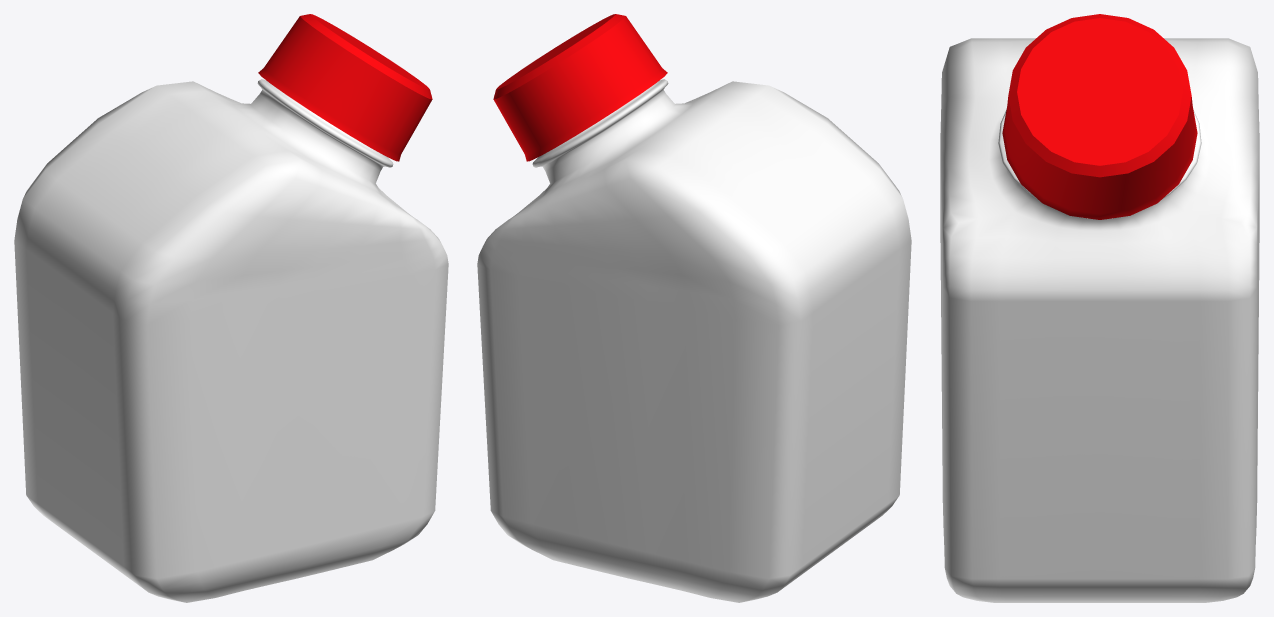
File: bottleA.fbx
3 renders of one model, left to right at view 1: azimuth 30°, elevation 25°; view 2: azimuth 150°, elevation 25°; view 3: azimuth 270°, elevation 25°, orthographic. The views are drawn at different scales.
Visible parts, largest first — view 1: liquid-bottle-complete-media-base, liquid-bottle-complete-media-cap; view 2: liquid-bottle-complete-media-base, liquid-bottle-complete-media-cap; view 3: liquid-bottle-complete-media-base, liquid-bottle-complete-media-cap.
Boxes of the visible parts, x1,y1,x2,y2 form: liquid-bottle-complete-media-base: [14, 79, 448, 602]; liquid-bottle-complete-media-cap: [258, 14, 432, 161]; liquid-bottle-complete-media-base: [477, 79, 911, 602]; liquid-bottle-complete-media-cap: [493, 14, 667, 161]; liquid-bottle-complete-media-base: [940, 38, 1259, 602]; liquid-bottle-complete-media-cap: [1002, 14, 1197, 219].
Size of the model in its own units: 11.64 by 15.75 by 7.87.
